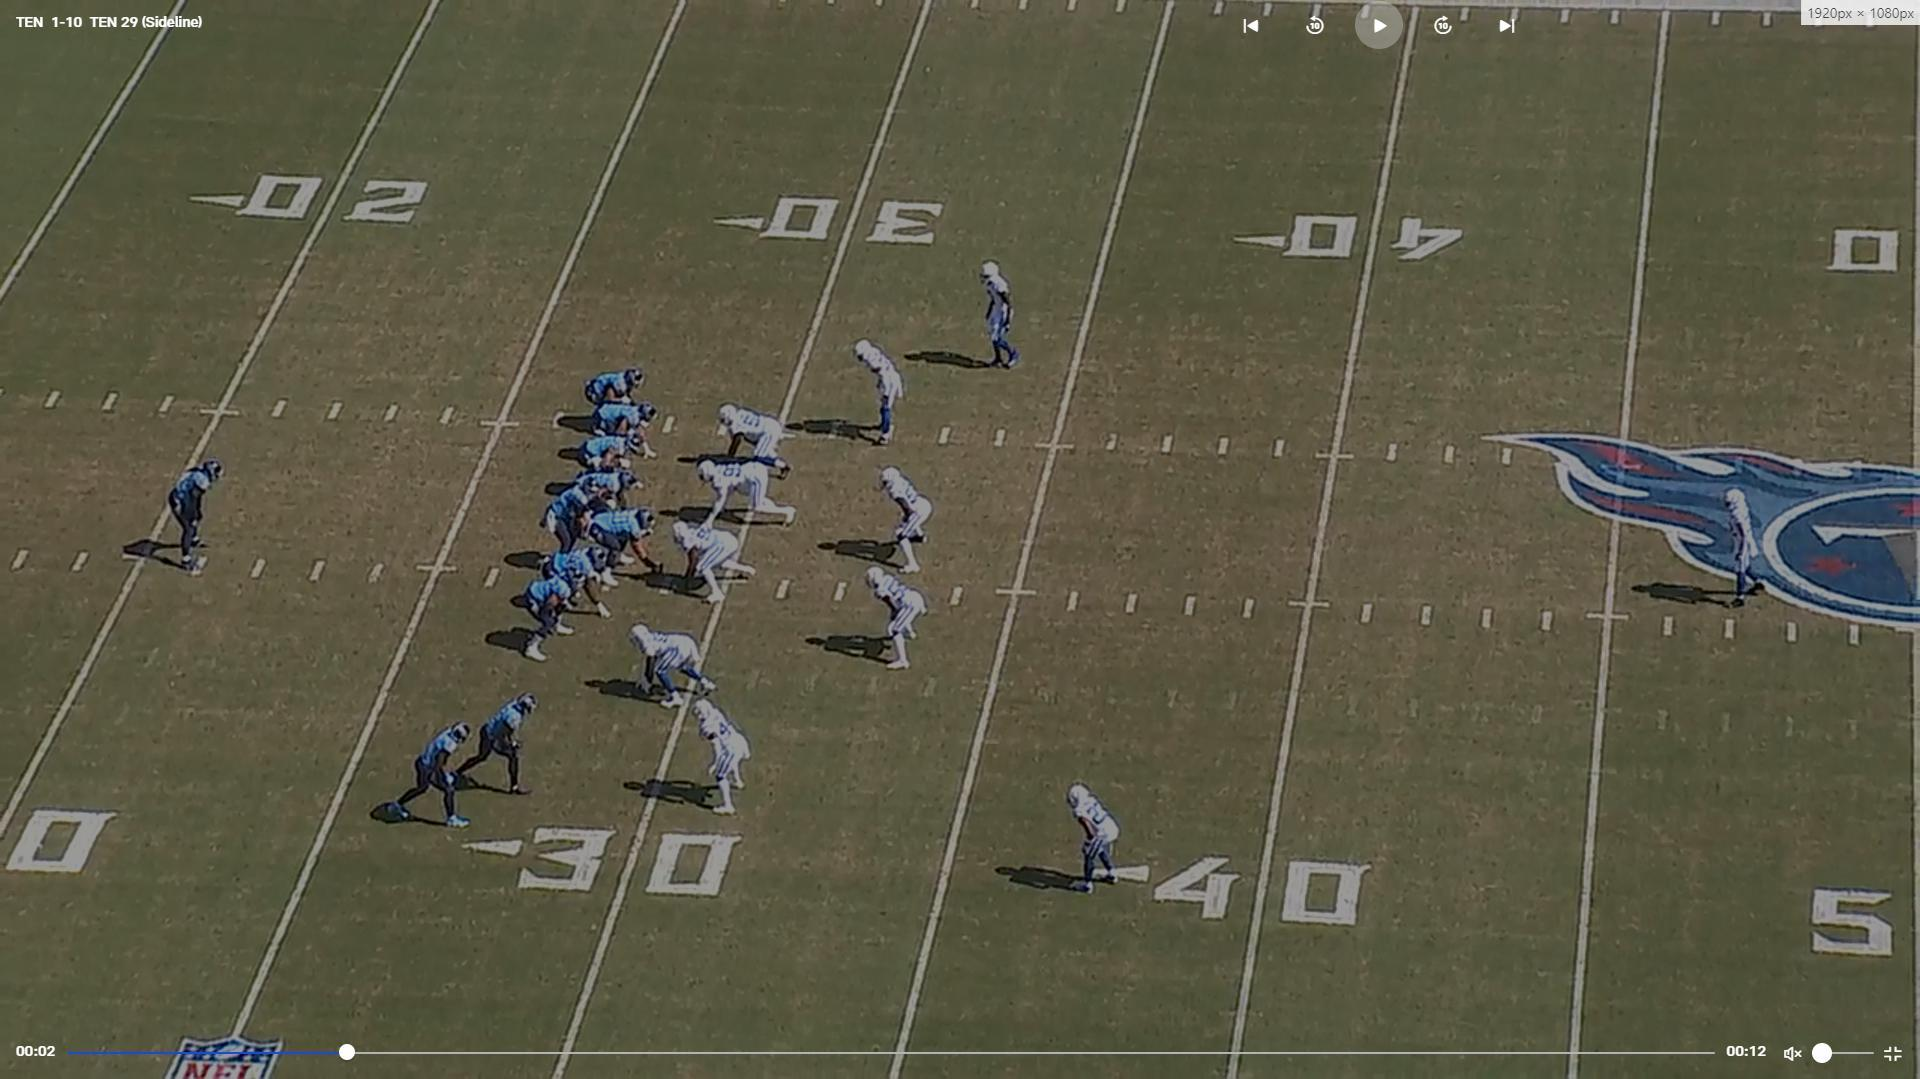player: (379, 718, 479, 832), (457, 692, 536, 798), (628, 620, 721, 707), (665, 522, 753, 610), (166, 454, 229, 576), (695, 456, 799, 529), (523, 564, 598, 664), (693, 698, 754, 819), (861, 563, 925, 673), (1062, 780, 1122, 896), (874, 464, 933, 575), (1717, 479, 1767, 607), (716, 400, 797, 478), (587, 505, 662, 588), (851, 336, 904, 447), (535, 545, 610, 623), (582, 401, 668, 461), (537, 474, 599, 555), (976, 257, 1019, 373), (580, 362, 652, 425), (574, 465, 644, 515), (569, 432, 642, 475)
